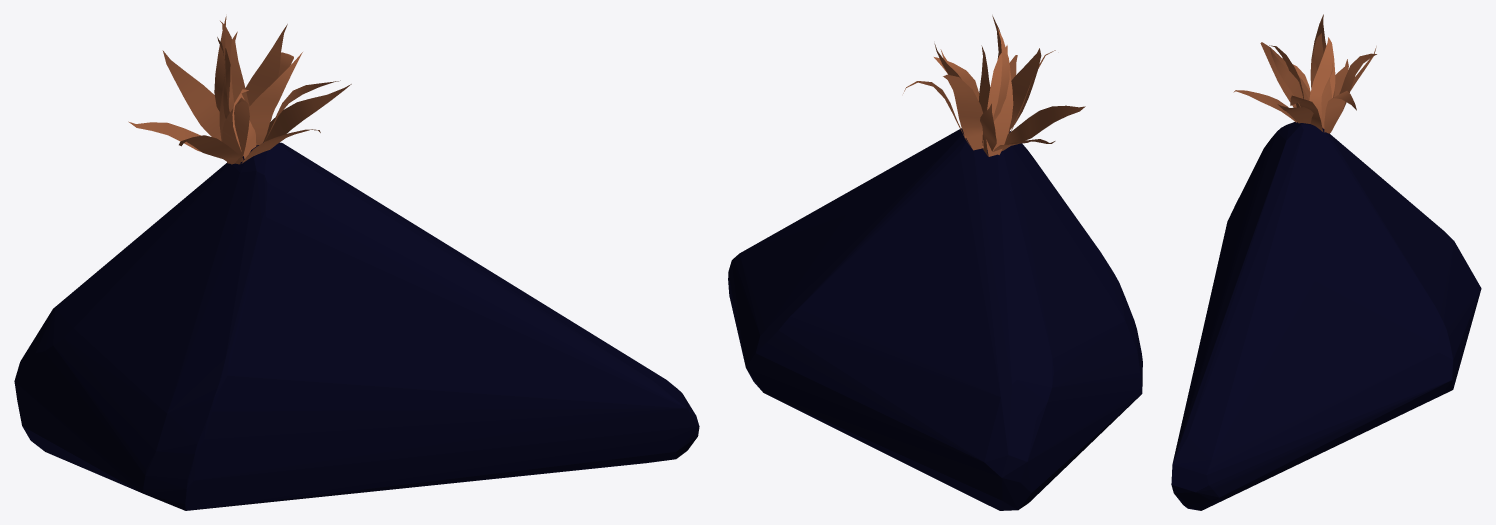
The picture shows the model from 3 angles, left to right: view 1: azimuth 30°, elevation 25°; view 2: azimuth 150°, elevation 25°; view 3: azimuth 270°, elevation 25°; orthographic projection. The views are drawn at different scales.
Visible parts, largest first — view 1: brush_MatteHull_g1_b0, brush_Petal_g1_b0; view 2: brush_MatteHull_g1_b0, brush_Petal_g1_b0; view 3: brush_MatteHull_g1_b0, brush_Petal_g1_b0.
Boxes of the visible parts, <box> form: brush_MatteHull_g1_b0: <box>14,142,699,510</box>; brush_Petal_g1_b0: <box>128,16,351,164</box>; brush_MatteHull_g1_b0: <box>728,128,1142,510</box>; brush_Petal_g1_b0: <box>903,15,1085,156</box>; brush_MatteHull_g1_b0: <box>1171,122,1481,510</box>; brush_Petal_g1_b0: <box>1233,14,1376,133</box>.
Size of the model in its own units: 2.51 by 2.23 by 1.72.
